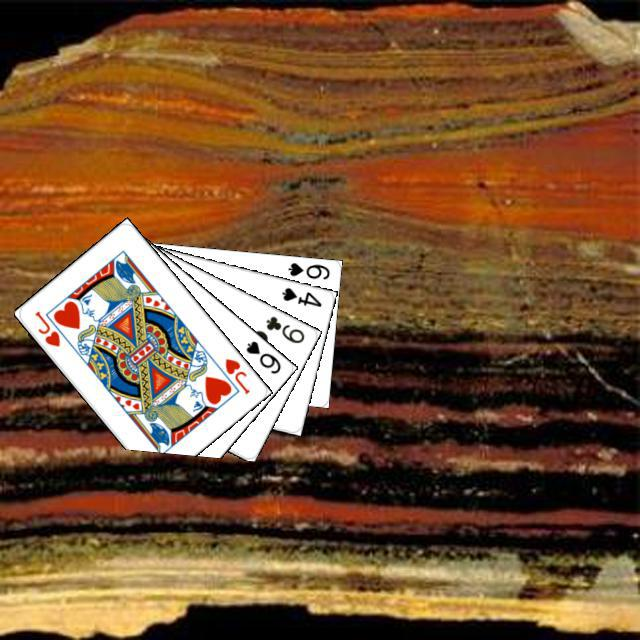4s: (277, 282, 323, 309)
6s: (241, 336, 283, 376), (283, 258, 331, 281)
9c: (261, 311, 306, 345)
Jh: (220, 353, 252, 396), (30, 306, 62, 348)
